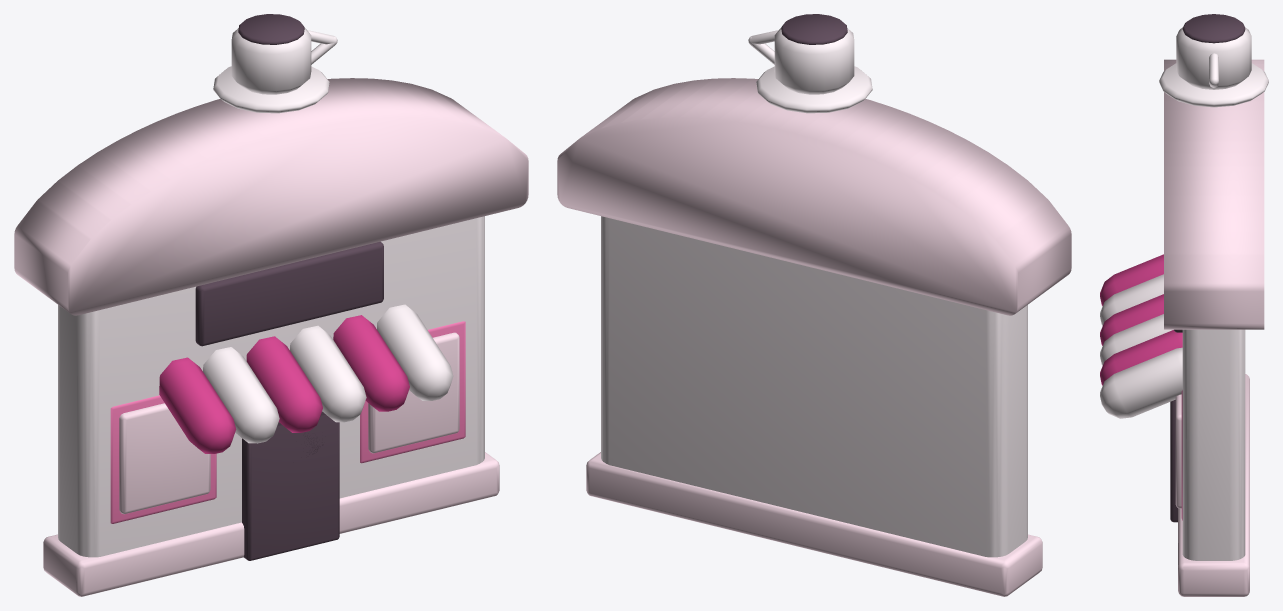
File: facade_cafe.obj
3 renders of one model, left to right at view 1: azimuth 30°, elevation 25°; view 2: azimuth 150°, elevation 25°; view 3: azimuth 270°, elevation 25°, orthographic. The views are drawn at different scales.
Parts seen in each view (by area): view 1: Roof, Wall, Trim, AwningA, AwningB, Windows, Door, Sign, Topper, Frames, TopperB; view 2: Wall, Roof, Trim, Topper, TopperB; view 3: Roof, Wall, AwningB, Topper, AwningA, Trim, TopperB, Windows, Door, Frames.
Boxes of the visible parts, <box> form: Roof: <box>14,78,528,315</box>; Wall: <box>58,216,484,557</box>; Trim: <box>43,452,499,596</box>; AwningA: <box>159,315,409,453</box>; AwningB: <box>203,304,453,443</box>; Windows: <box>119,332,459,514</box>; Door: <box>242,411,339,560</box>; Sign: <box>195,241,383,346</box>; Topper: <box>213,28,337,113</box>; Frames: <box>110,321,465,523</box>; TopperB: <box>238,14,304,44</box>; Wall: <box>601,216,1027,557</box>; Roof: <box>557,78,1071,315</box>; Trim: <box>586,452,1042,596</box>; Topper: <box>748,28,872,113</box>; TopperB: <box>781,14,847,44</box>; Roof: <box>1164,59,1264,329</box>; Wall: <box>1182,329,1245,560</box>; AwningB: <box>1100,274,1182,418</box>; Topper: <box>1159,27,1268,107</box>; AwningA: <box>1100,254,1182,385</box>; Trim: <box>1178,374,1249,596</box>; TopperB: <box>1182,14,1245,43</box>; Windows: <box>1175,394,1181,508</box>; Door: <box>1170,400,1177,522</box>; Frames: <box>1181,390,1182,520</box>.
Bounding box in the file's own units: 15.9 × 16.74 × 5.39.
